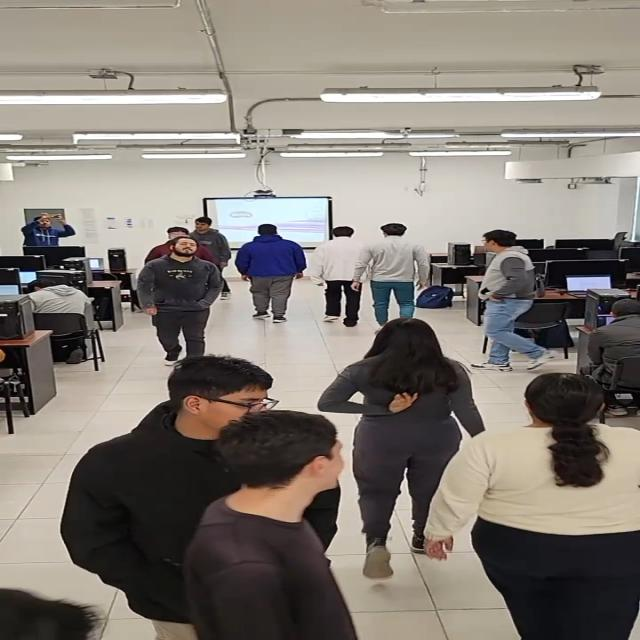Persona: (58, 354, 342, 640), (421, 373, 640, 640), (317, 318, 488, 579), (181, 410, 361, 640), (470, 229, 562, 371), (134, 236, 226, 365), (349, 222, 431, 332), (236, 223, 306, 325), (306, 225, 370, 328), (184, 216, 232, 303), (136, 226, 212, 269)
